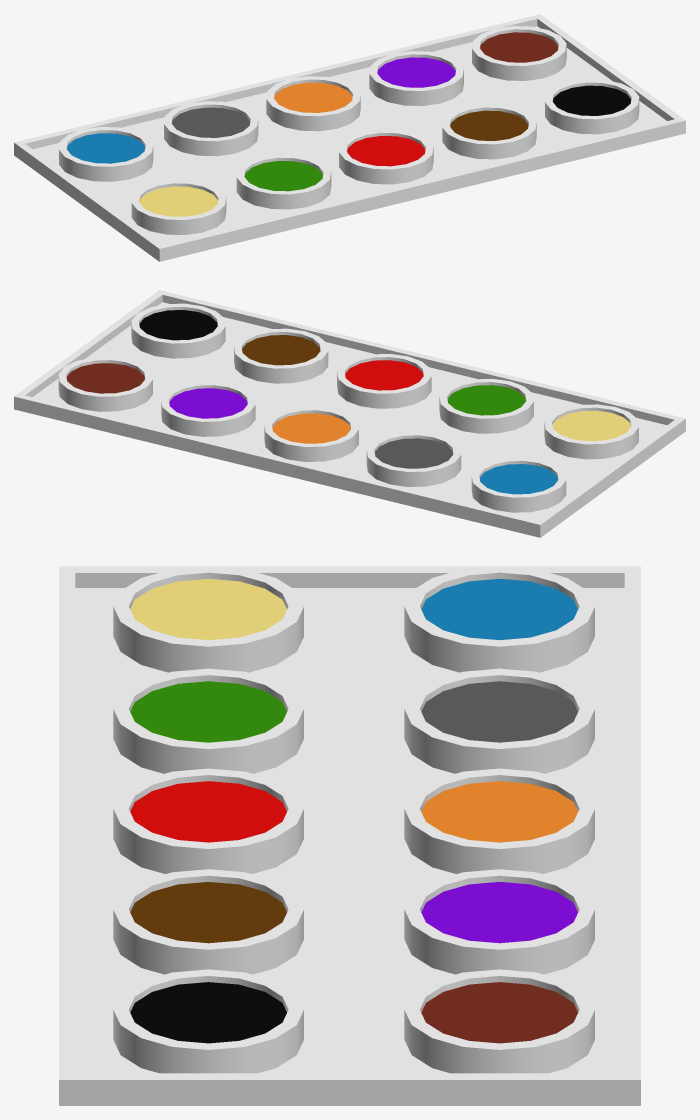
Rendered from Paintings.FBX.
3 renders of one model, top to bottom at view 1: azimuth 30°, elevation 25°; view 2: azimuth 150°, elevation 25°; view 3: azimuth 270°, elevation 25°, orthographic. The views are drawn at different scales.
Parts seen in each view (by area): view 1: paintings; view 2: paintings; view 3: paintings.
Part boxes in pixels (left/top/right/bottom): paintings: left=14, top=14, right=685, bottom=261; paintings: left=14, top=290, right=685, bottom=537; paintings: left=59, top=566, right=640, bottom=1105.
Bounding box in the file's own units: 40.98 × 1.53 × 19.62.
Materials: 1 (1 with a texture image).
